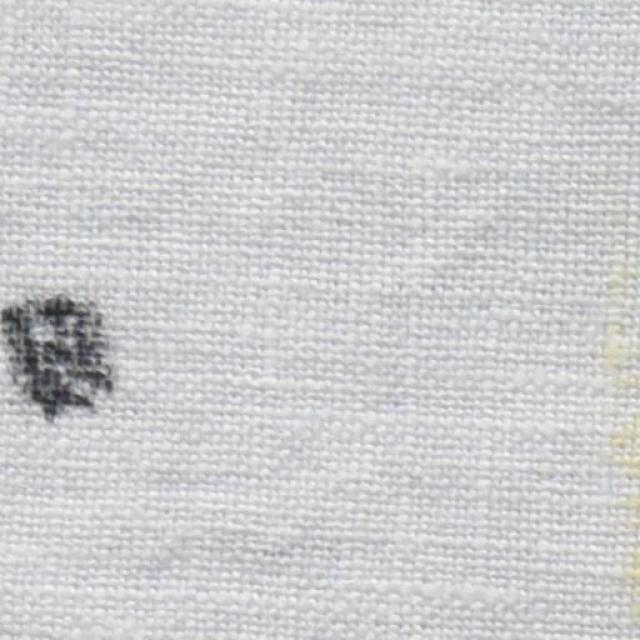Stain: (586, 259, 639, 639), (0, 286, 120, 425)
